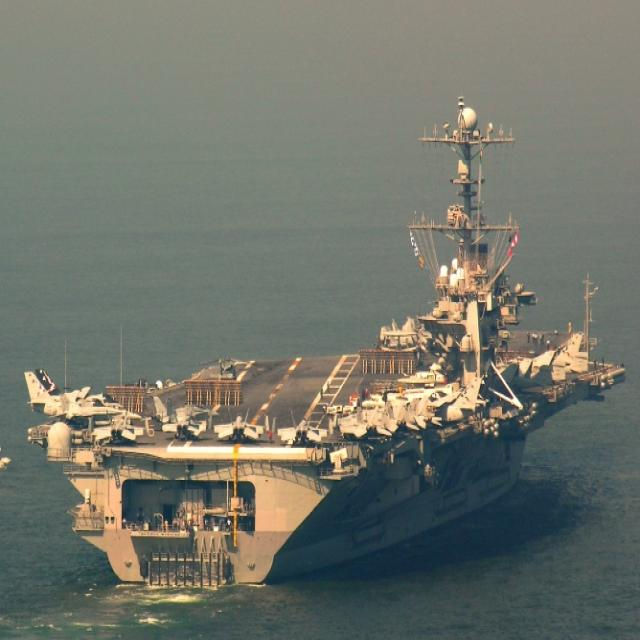Portanaves: (19, 93, 632, 596)
